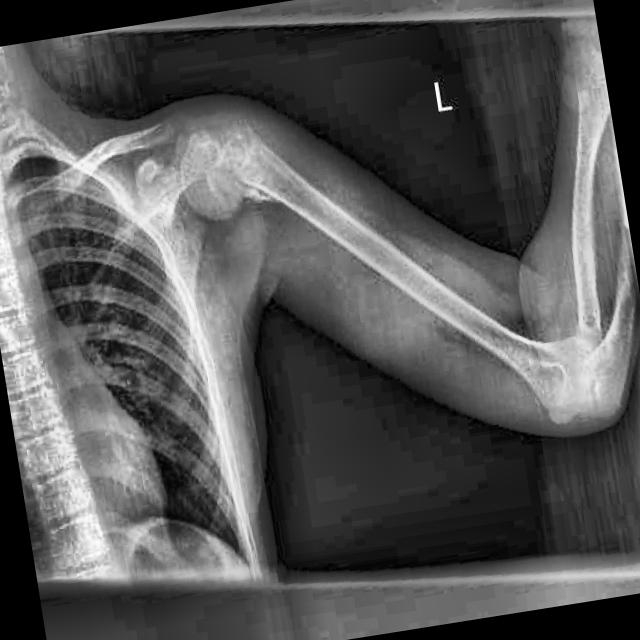humerus: (192, 122, 310, 230)
